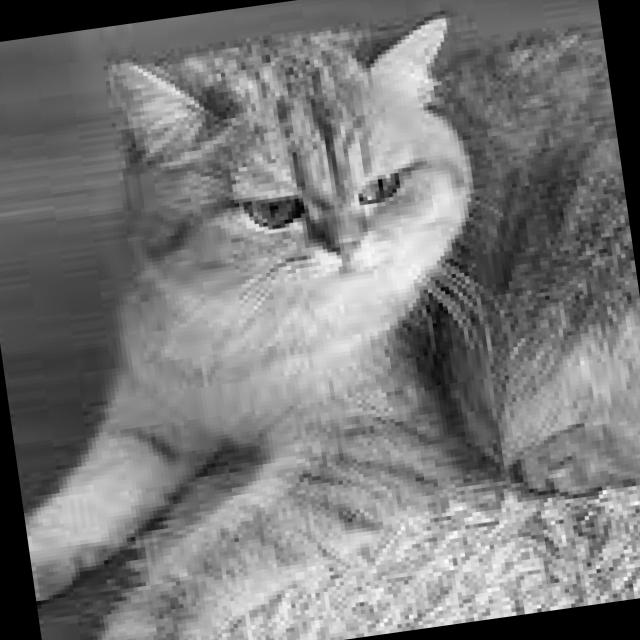british: (81, 0, 490, 348)
